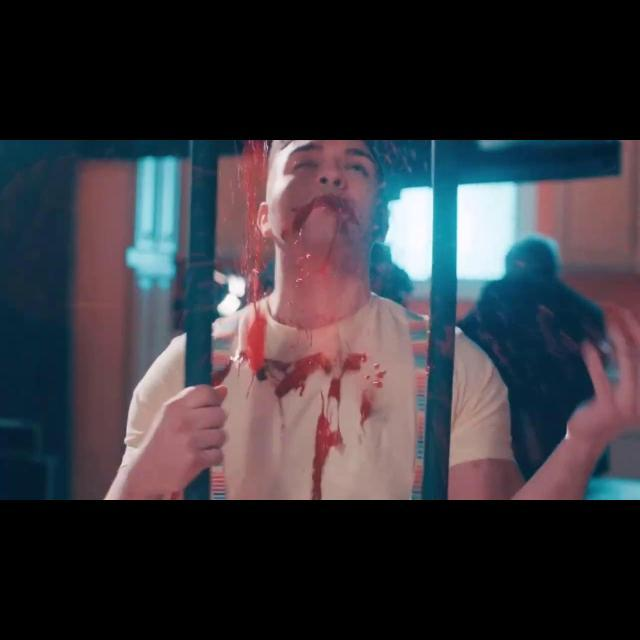blood: (204, 140, 430, 500)
